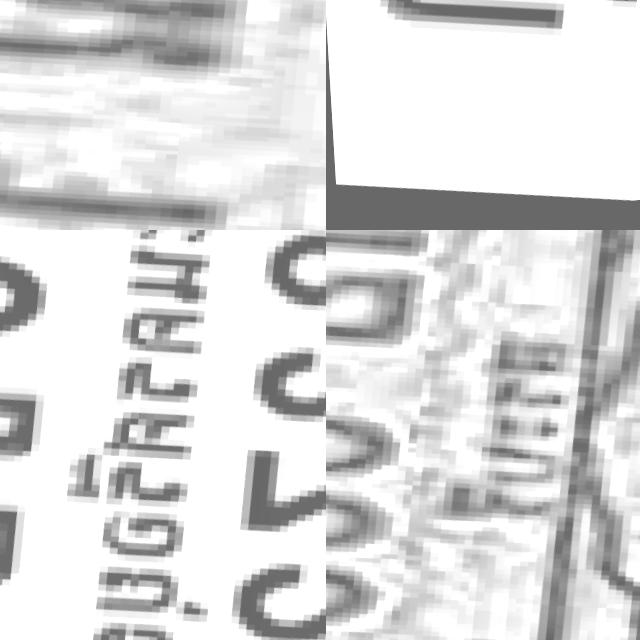license-plate: (0, 230, 326, 640), (326, 230, 640, 640), (0, 0, 326, 230), (326, 0, 640, 230)
